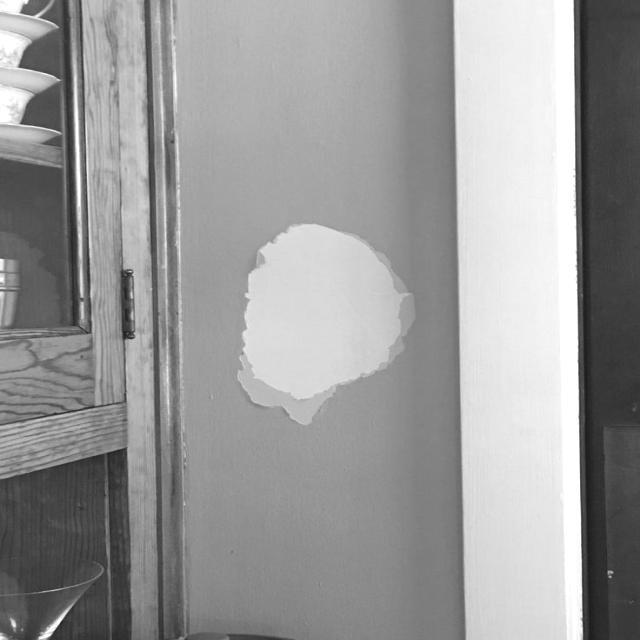peeling paint: (209, 210, 452, 470)
